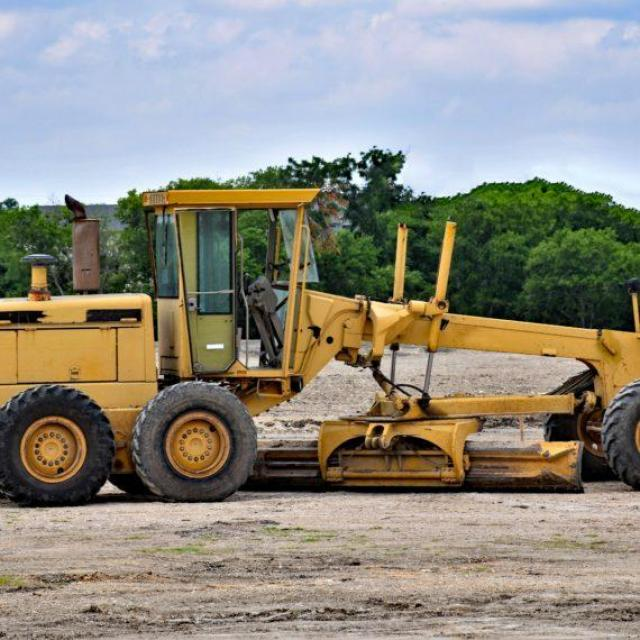Grader: (2, 172, 639, 511)
